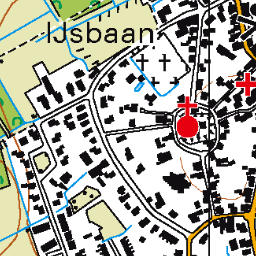church: (171, 95, 202, 141)
